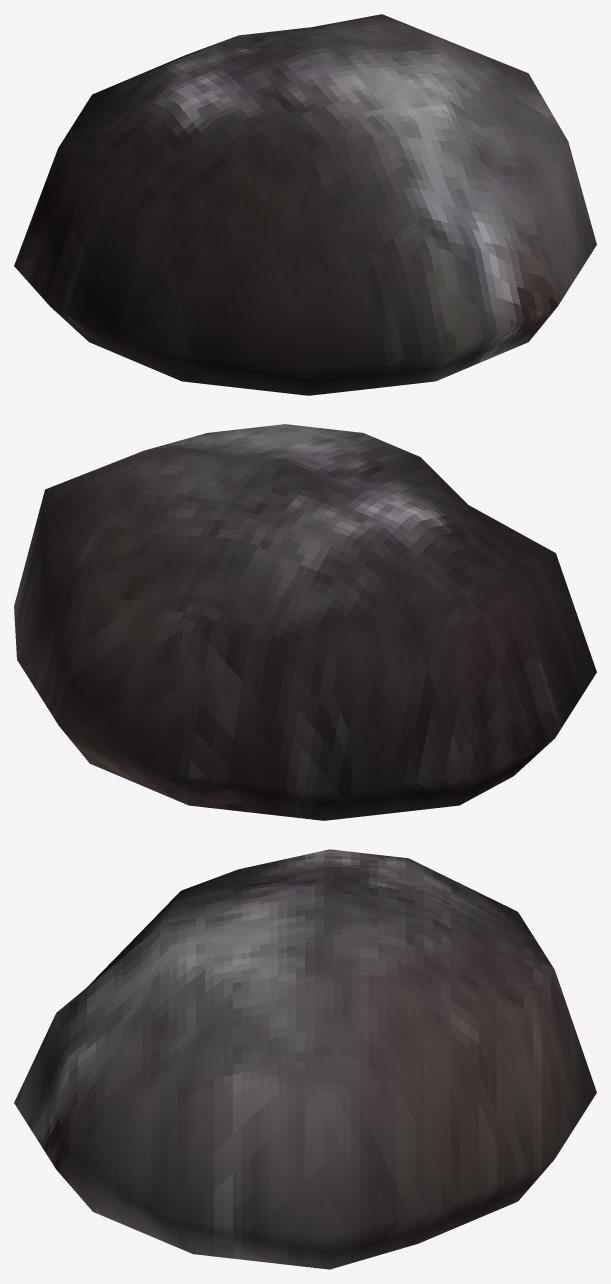
File: opium.glb
3 views of the same model, one above another, from view 1: azimuth 30°, elevation 25°; view 2: azimuth 150°, elevation 25°; view 3: azimuth 270°, elevation 25° (orthographic). The views are drawn at different scales.
Parts seen in each view (by area): view 1: opium.ms3d.mo; view 2: opium.ms3d.mo; view 3: opium.ms3d.mo.
Part boxes in pixels (bbox=[...]): opium.ms3d.mo: bbox=[14, 14, 596, 395]; opium.ms3d.mo: bbox=[14, 424, 596, 820]; opium.ms3d.mo: bbox=[14, 849, 596, 1269].
Size of the model in its own units: 26 by 13.33 by 24.
Materials: 1 (1 with a texture image).
